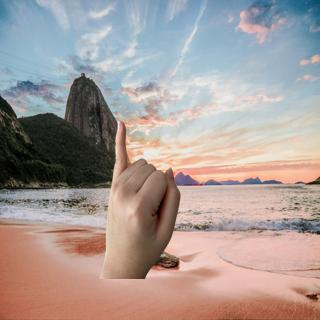FINE: (104, 117, 183, 263)
